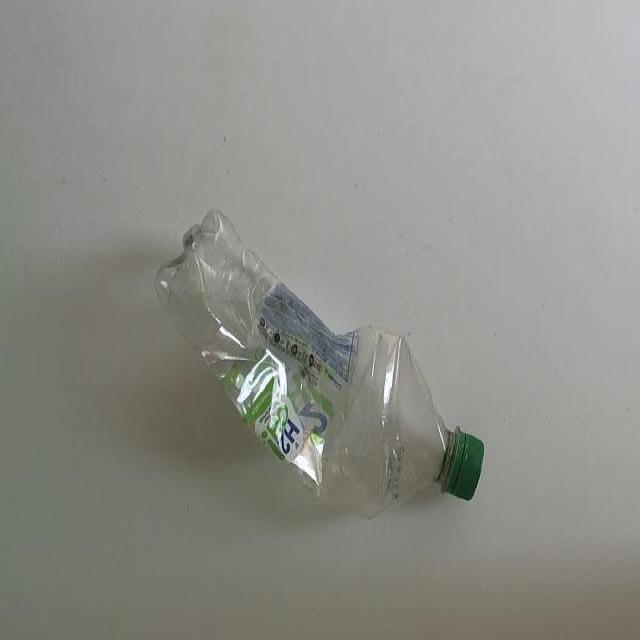defect: (152, 203, 488, 526)
